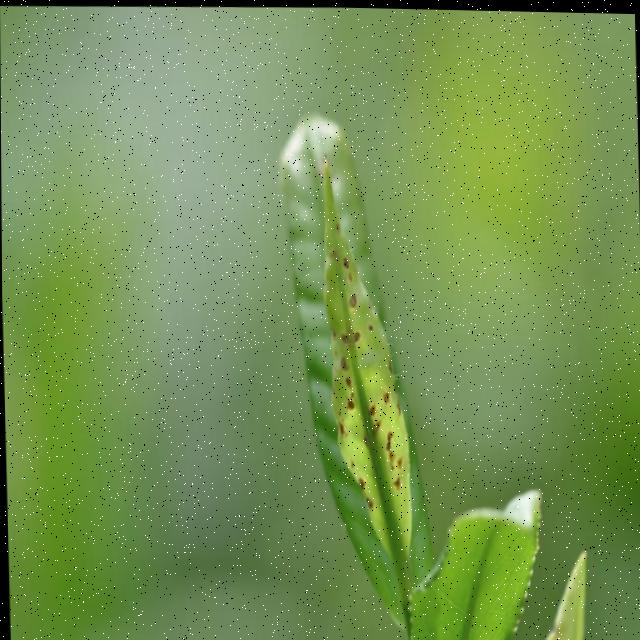Tea red scab: (315, 178, 425, 525)
